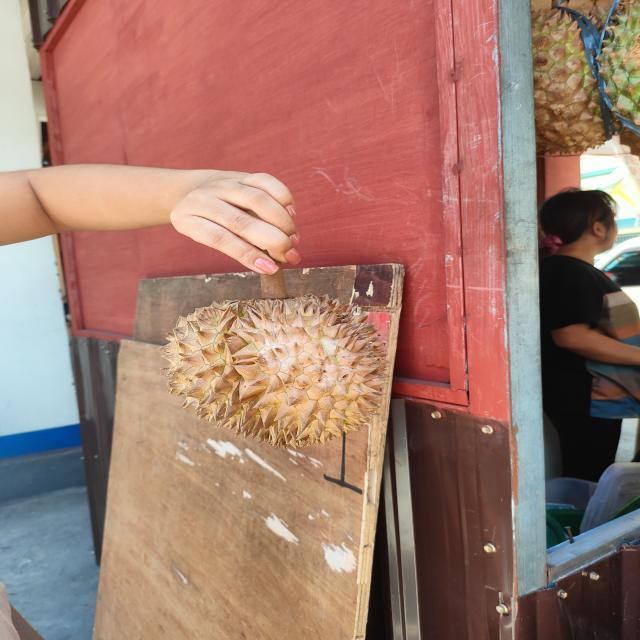mature: (159, 293, 392, 451)
